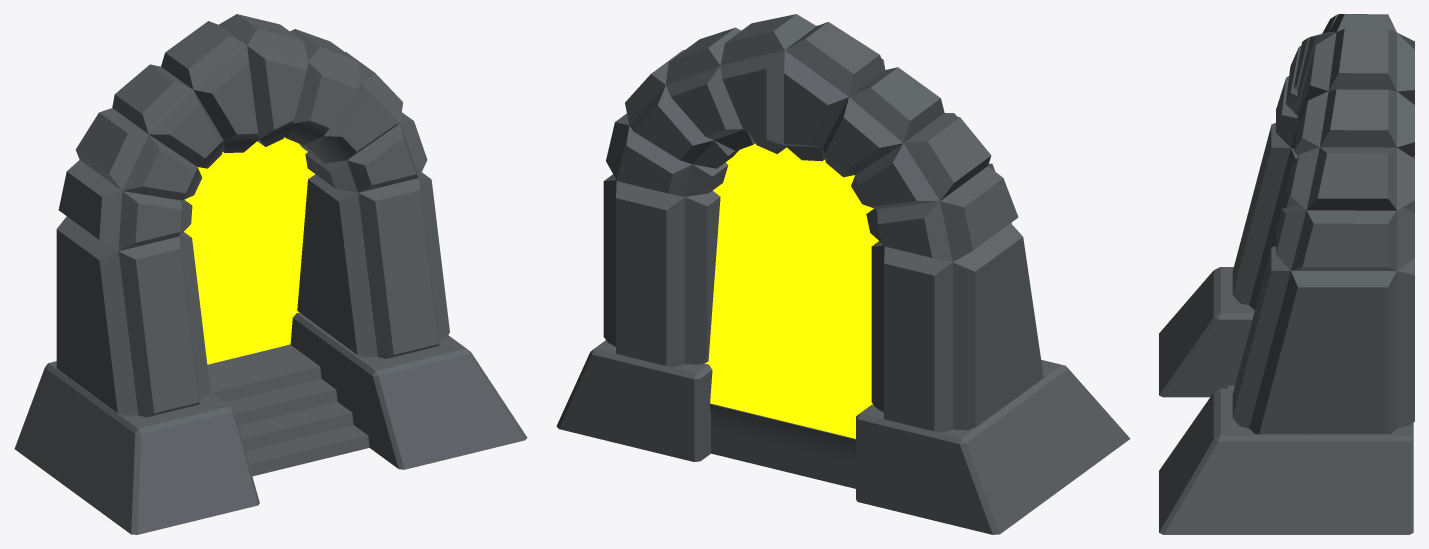
Rendered from religious_warp_gate.fbx.
The picture shows the model from 3 angles, left to right: view 1: azimuth 30°, elevation 25°; view 2: azimuth 150°, elevation 25°; view 3: azimuth 270°, elevation 25°; orthographic projection. The views are drawn at different scales.
Visible parts, largest first — view 1: pPipe1, religious_warp_gate, pPlane113, pPlane112; view 2: pPipe1, pPlane113, religious_warp_gate, pPlane112; view 3: pPipe1, religious_warp_gate.
Part boxes in pixels (left/top/right/bottom): pPipe1: left=56, top=14, right=449, bottom=417; religious_warp_gate: left=14, top=312, right=527, bottom=534; pPlane113: left=184, top=137, right=315, bottom=364; pPlane112: left=207, top=344, right=369, bottom=476; pPipe1: left=603, top=14, right=1043, bottom=432; pPlane113: left=704, top=143, right=878, bottom=438; religious_warp_gate: left=556, top=340, right=1130, bottom=534; pPlane112: left=709, top=403, right=855, bottom=488; pPipe1: left=1232, top=14, right=1414, bottom=434; religious_warp_gate: left=1159, top=267, right=1413, bottom=534.
Bounding box in the file's own units: 6.59 × 6.21 × 3.5.
